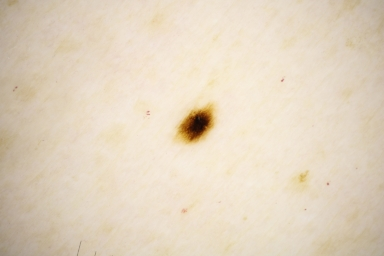nevus: (183, 109, 213, 143)
